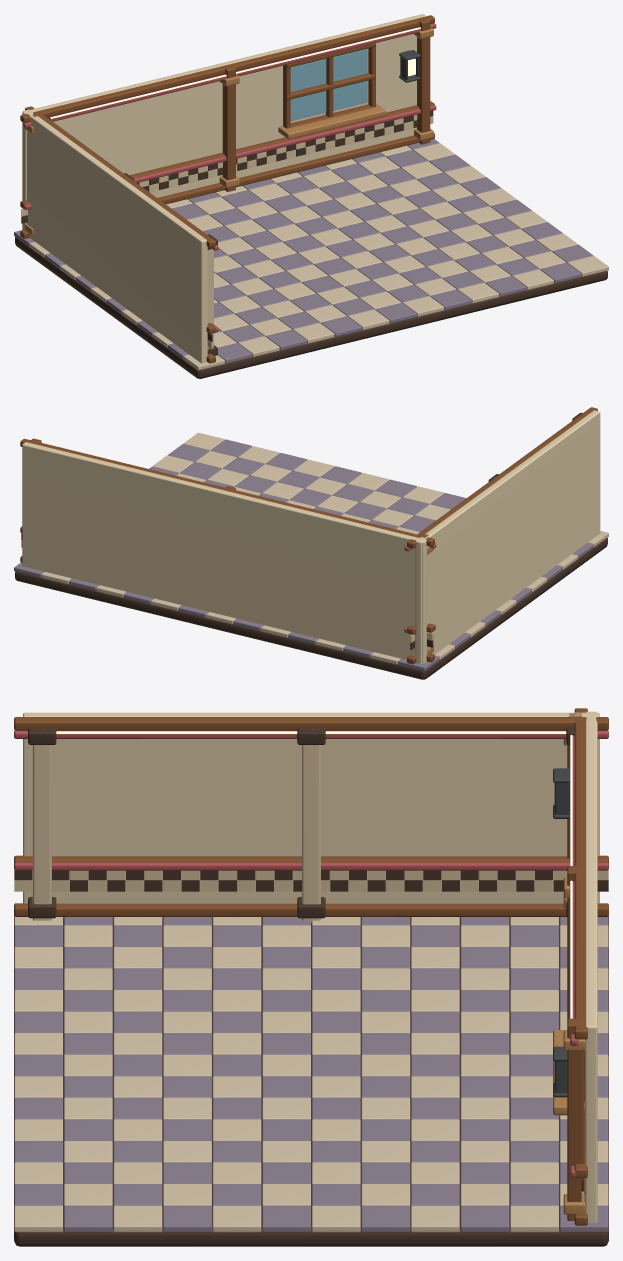
The model's file is arcade_shell.glb.
The picture shows the model from 3 angles, top to bottom: view 1: azimuth 30°, elevation 25°; view 2: azimuth 150°, elevation 25°; view 3: azimuth 270°, elevation 25°; orthographic projection. The views are drawn at different scales.
Visible parts, largest first — view 1: left plaster wall, back plaster wall, foundation, back timber molding.002, window night glass, back timber molding, retro red ribbon.001, retro red ribbon, back sculpted timber column.001, back sculpted timber column.002, deep window sill, left timber molding.002 (+18 smaller); view 2: back plaster wall, left plaster wall, foundation, back timber molding.002, left timber molding.002, checker ceramic tile.149, checker ceramic tile.158, checker ceramic tile.163, checker ceramic tile.164, checker ceramic tile.177, checker ceramic tile.141, checker ceramic tile.143 (+20 smaller); view 3: left plaster wall, foundation, left timber molding.002, left timber molding, back plaster wall, side retro red ribbon, back timber molding.002, left timber molding.001, side retro red ribbon.001, arcade side column.002, arcade side column.001, back sculpted timber column.002 (+158 smaller).
Part boxes in pixels (<box>): left plaster wall: <box>23,109,207,363</box>; back plaster wall: <box>22,14,426,230</box>; foundation: <box>15,237,607,378</box>; back timber molding.002: <box>20,15,434,123</box>; window night glass: <box>290,49,367,120</box>; back timber molding: <box>20,133,434,238</box>; retro red ribbon.001: <box>23,23,436,128</box>; retro red ribbon: <box>23,105,436,209</box>; back sculpted timber column.001: <box>222,65,235,191</box>; back sculpted timber column.002: <box>417,17,430,144</box>; deep window sill: <box>278,103,385,139</box>; left timber molding.002: <box>25,106,215,247</box>; back plaster wall: <box>22,442,426,663</box>; left plaster wall: <box>415,410,600,663</box>; foundation: <box>15,538,607,679</box>; back timber molding.002: <box>20,438,434,546</box>; left timber molding.002: <box>407,407,597,548</box>; checker ceramic tile.149: <box>152,455,193,473</box>; checker ceramic tile.158: <box>332,484,373,502</box>; checker ceramic tile.163: <box>195,450,236,468</box>; checker ceramic tile.164: <box>168,444,209,462</box>; checker ceramic tile.177: <box>238,446,279,464</box>; checker ceramic tile.141: <box>372,509,413,526</box>; checker ceramic tile.143: <box>317,495,358,513</box>; left plaster wall: <box>23,712,599,903</box>; foundation: <box>14,915,608,1246</box>; left timber molding.002: <box>14,717,608,730</box>; left timber molding: <box>14,903,608,916</box>; back plaster wall: <box>585,711,597,1222</box>; side retro red ribbon: <box>14,862,608,870</box>; back timber molding.002: <box>574,708,587,1039</box>; left timber molding.001: <box>14,855,608,862</box>; side retro red ribbon.001: <box>14,730,608,738</box>; arcade side column.002: <box>32,745,51,920</box>; arcade side column.001: <box>302,729,320,922</box>; back sculpted timber column.002: <box>567,1018,584,1220</box>.
Bounding box in the file's own units: 10.8 × 3.41 × 8.4.
